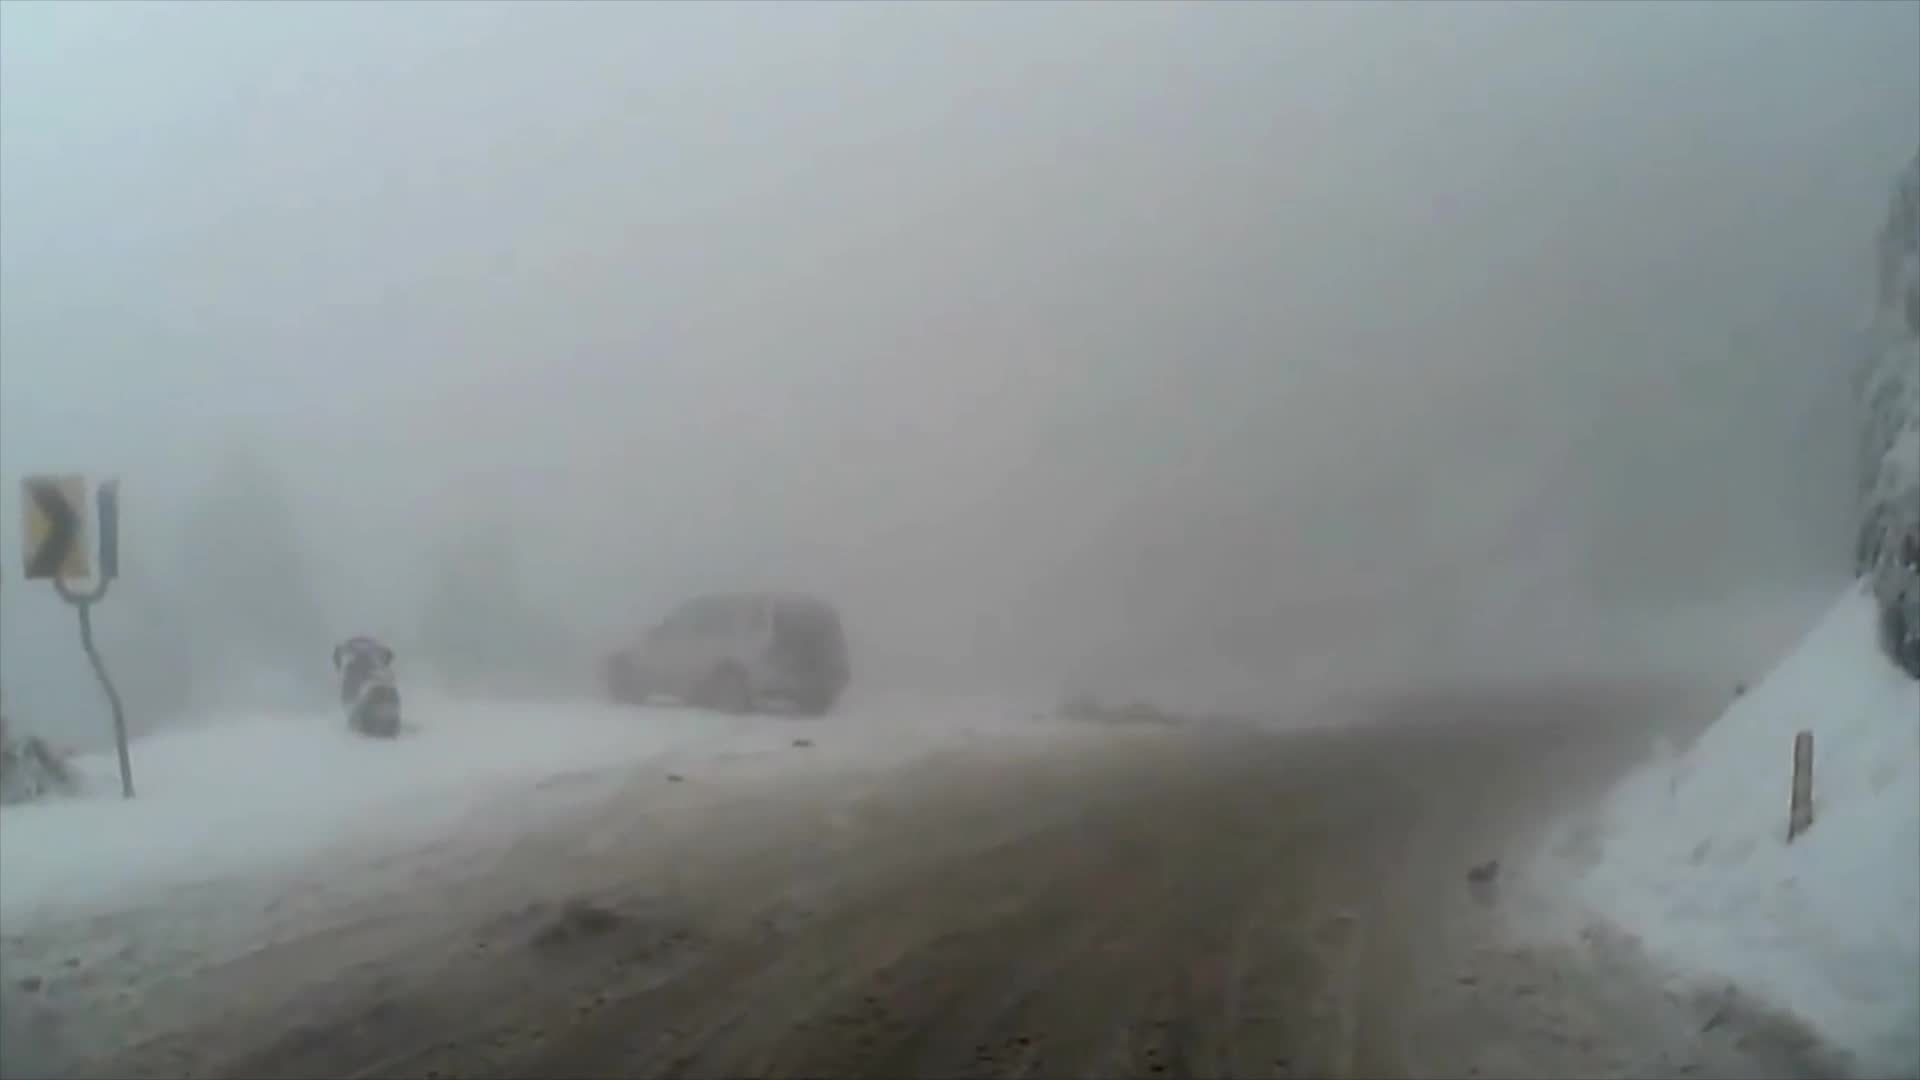vehicle: (605, 592, 855, 716)
